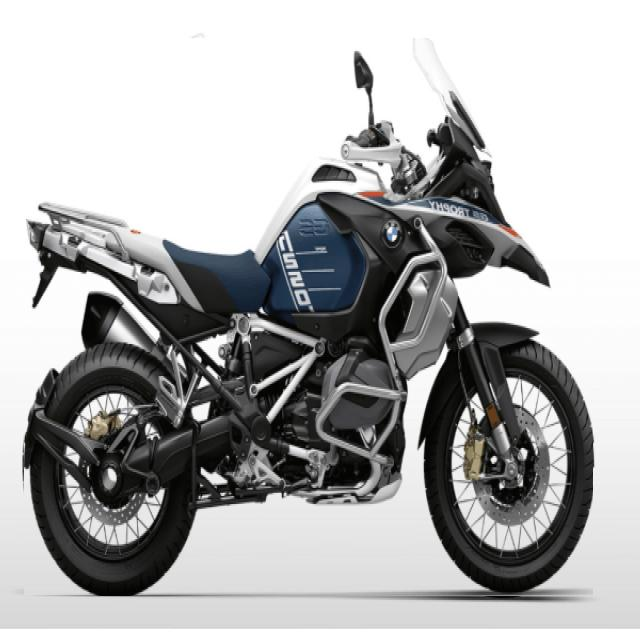motorcycle: (25, 39, 593, 596)
